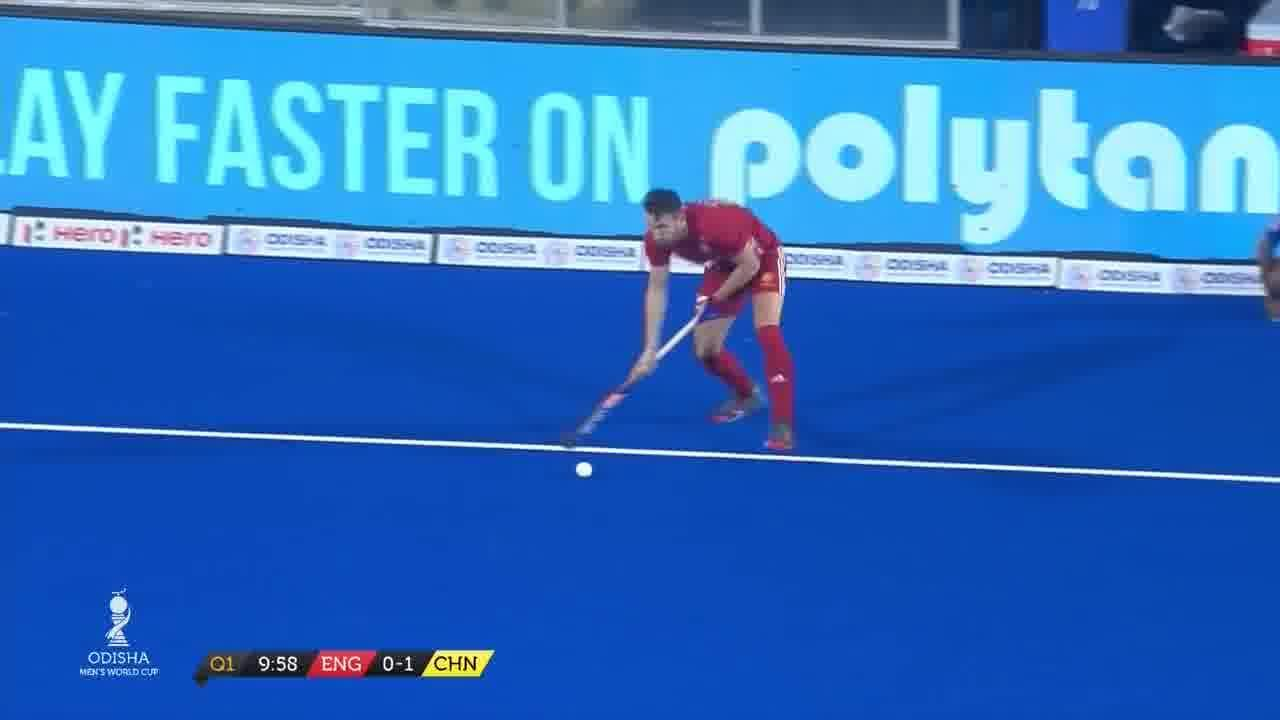ball: (573, 448, 601, 485)
